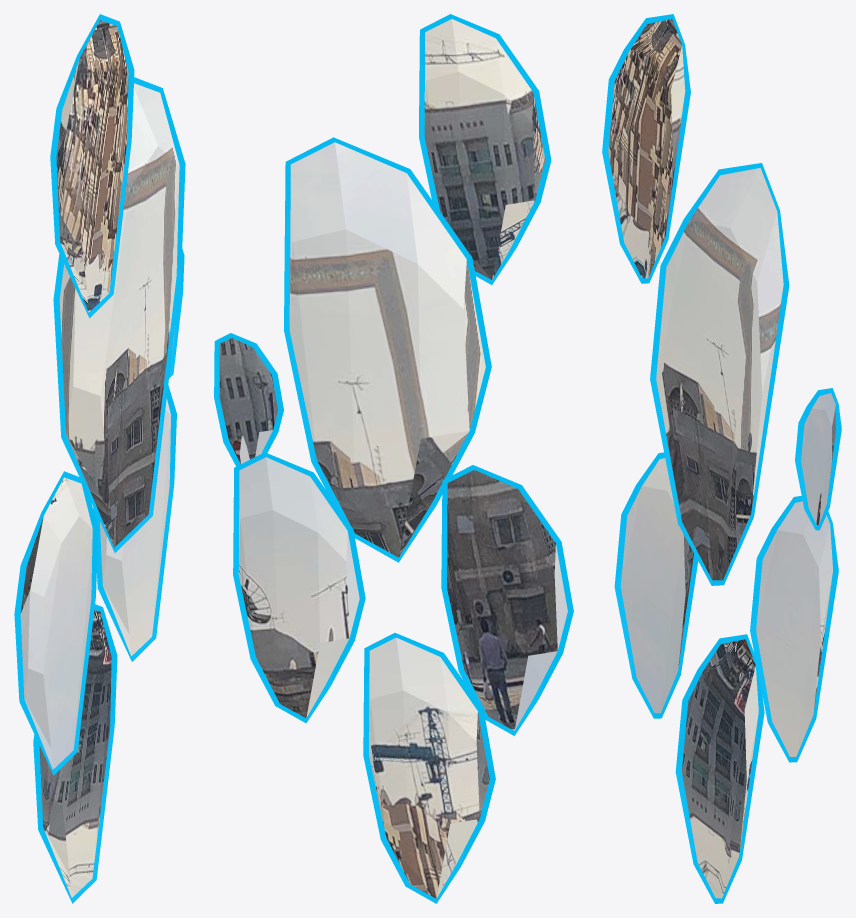
Rendered from Community_Expulsion.glb.
3 views of the same model, side by side, from view 1: azimuth 30°, elevation 25°; view 2: azimuth 150°, elevation 25°; view 3: azimuth 270°, elevation 25° (orthographic). The views are drawn at different scales.
Visible parts, largest first — view 1: Bhoomika Ghaghada.001; view 2: Bhoomika Ghaghada.001; view 3: Bhoomika Ghaghada.001.
Boxes of the visible parts, bbox=[...] form: Bhoomika Ghaghada.001: bbox=[14, 14, 185, 903]; Bhoomika Ghaghada.001: bbox=[214, 14, 573, 903]; Bhoomika Ghaghada.001: bbox=[602, 14, 841, 903].
Size of the model in its own units: 2.46 by 8 by 1.95.
Materials: 2 (1 with a texture image).
